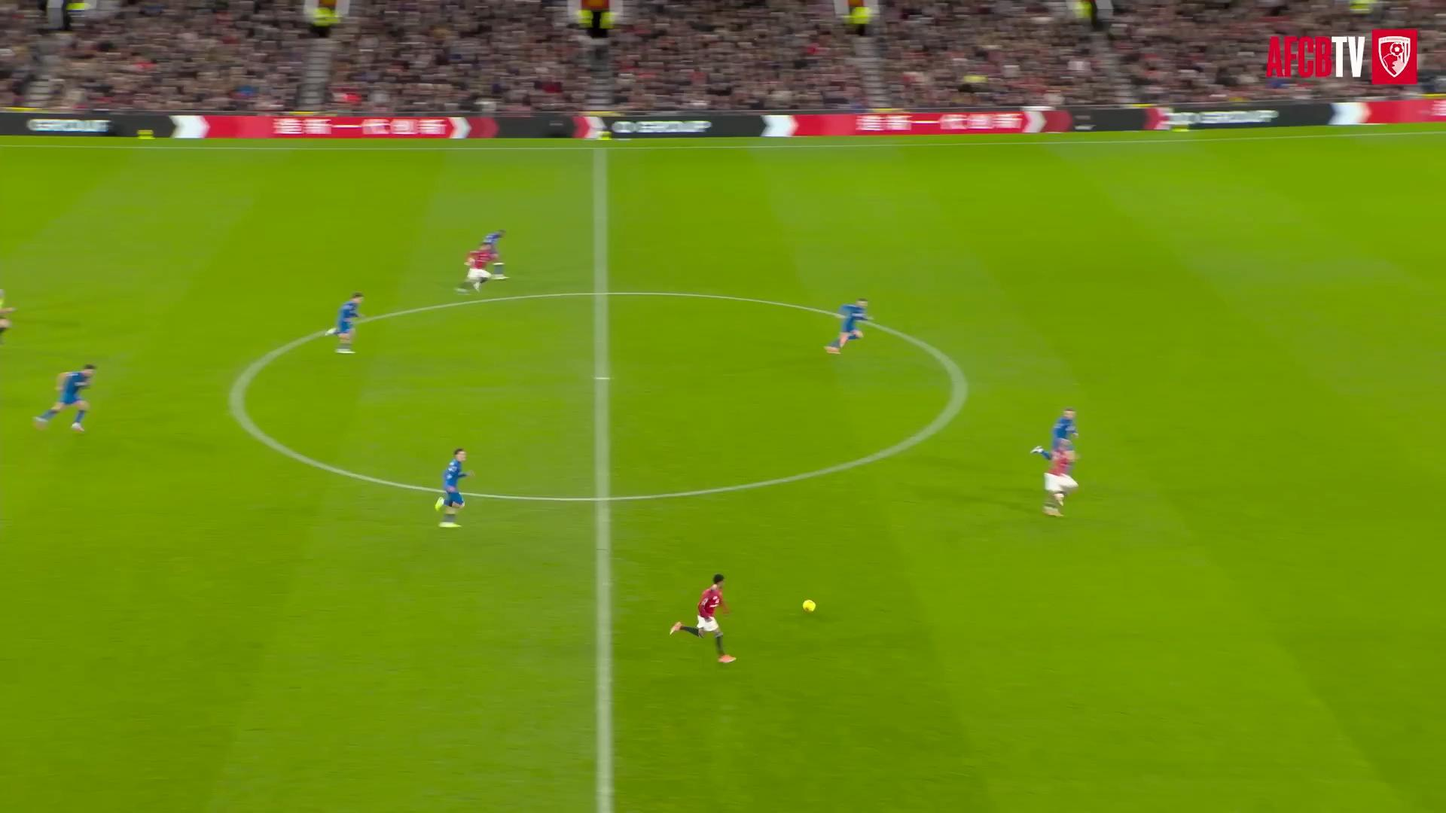football: (800, 596, 820, 619)
player: (670, 574, 735, 662), (35, 364, 95, 431), (435, 448, 471, 527), (1044, 440, 1077, 516), (1031, 408, 1078, 459), (825, 298, 868, 353), (326, 292, 362, 354), (457, 243, 496, 293), (482, 230, 507, 279), (0, 289, 14, 343)
